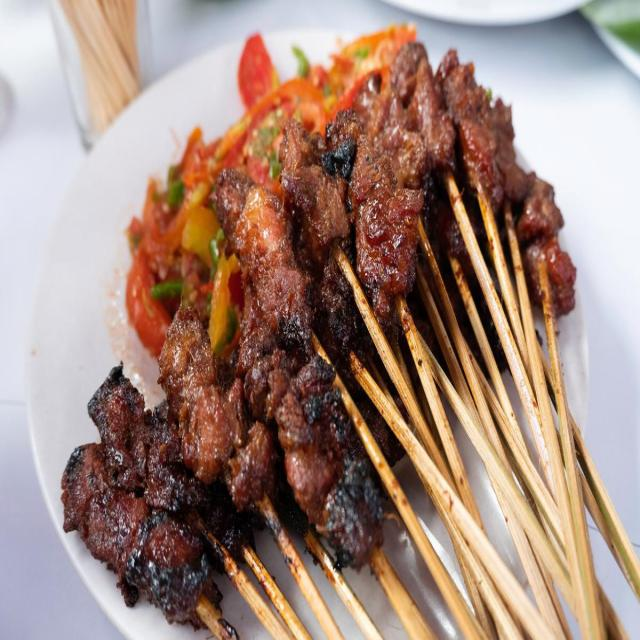Sate: (37, 96, 611, 640)
